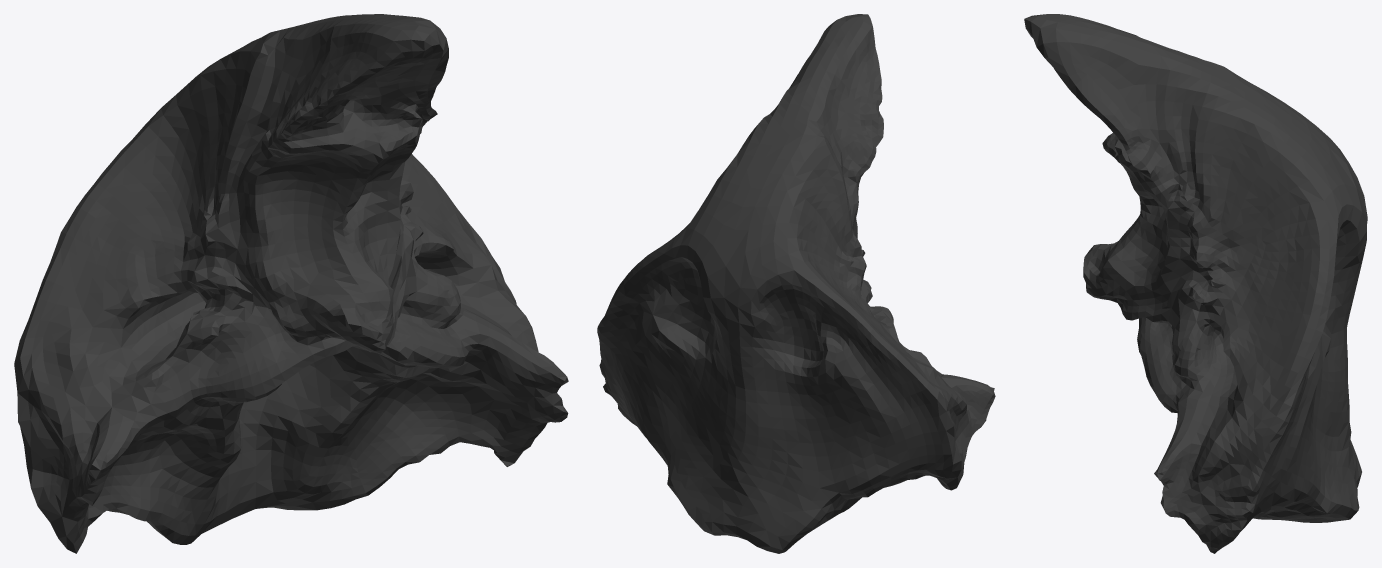
Rendered from Occipital_dorsal.glb.
The picture shows the model from 3 angles, left to right: view 1: azimuth 30°, elevation 25°; view 2: azimuth 150°, elevation 25°; view 3: azimuth 270°, elevation 25°; orthographic projection. The views are drawn at different scales.
Parts seen in each view (by area): view 1: Occipital_dorsal; view 2: Occipital_dorsal; view 3: Occipital_dorsal.
Boxes of the visible parts, x1,y1,x2,y2 form: Occipital_dorsal: [14, 14, 568, 553]; Occipital_dorsal: [597, 14, 995, 553]; Occipital_dorsal: [1024, 14, 1367, 553].
Bounding box in the file's own units: 239 × 278 × 173.
1 material, 1 textured.
